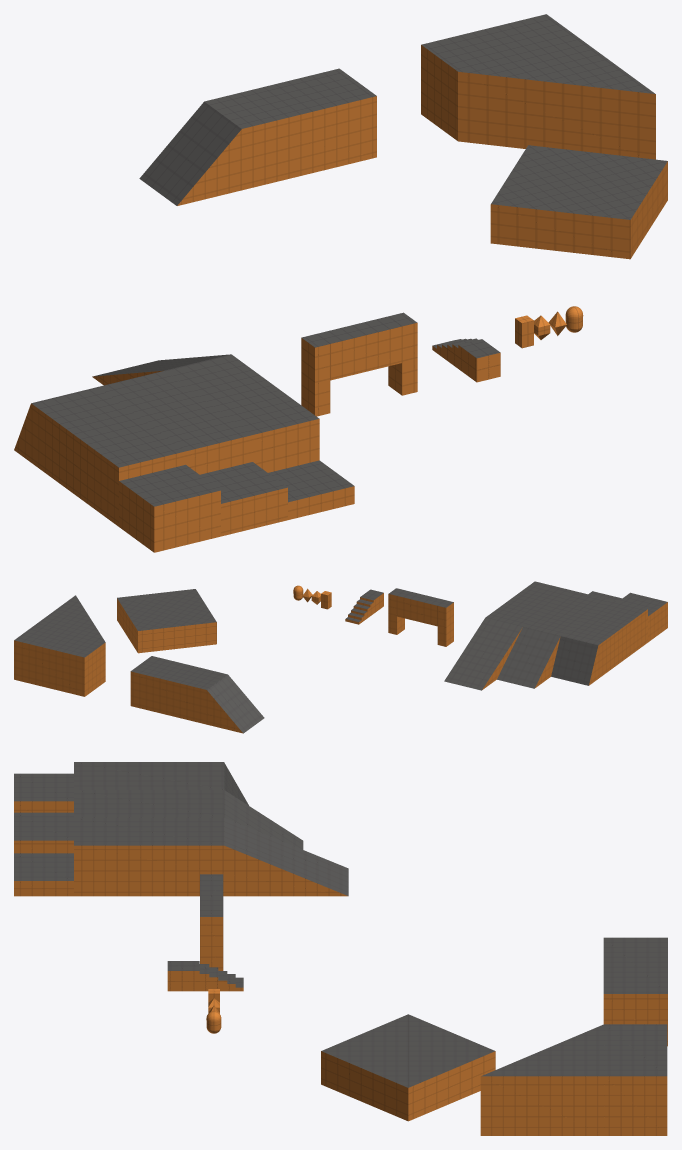
Rendered from testing_zone.glb.
3 views of the same model, one above another, from view 1: azimuth 30°, elevation 25°; view 2: azimuth 150°, elevation 25°; view 3: azimuth 270°, elevation 25° (orthographic). The views are drawn at different scales.
Parts seen in each view (by area): view 1: Cube.028_col, Cube.007_col, Cube.027_col, Cube.008_col, Cube.004_col, Cube.023_col, Cube.006_col, Cube.022_col, Cube.010_col, Cube.009_col, Cube.024_col; view 2: Cube.028_col, Cube.007_col, Cube.008_col, Cube.027_col, Cube.004_col, Cube.006_col, Cube.023_col, Cube.022_col, Cube.024_col; view 3: Cube.004_col, Cube.028_col, Cube.027_col, Cube.007_col, Cube.006_col, Cube.008_col, Cube.009_col, Cube.010_col, Cube.022_col, Cube.023_col, Cube.024_col.
Part boxes in pixels (x1,y1,x2,y2): Cube.028_col: [421, 14, 655, 159]; Cube.007_col: [139, 68, 376, 205]; Cube.027_col: [490, 145, 667, 259]; Cube.008_col: [14, 387, 185, 526]; Cube.004_col: [92, 354, 319, 472]; Cube.023_col: [301, 312, 417, 416]; Cube.006_col: [98, 370, 252, 474]; Cube.022_col: [119, 464, 220, 552]; Cube.010_col: [200, 462, 287, 536]; Cube.009_col: [268, 460, 354, 519]; Cube.024_col: [432, 338, 500, 382]; Cube.028_col: [14, 595, 105, 696]; Cube.007_col: [130, 656, 264, 733]; Cube.008_col: [551, 600, 647, 685]; Cube.027_col: [117, 589, 216, 653]; Cube.004_col: [444, 581, 572, 690]; Cube.006_col: [497, 590, 609, 688]; Cube.023_col: [388, 588, 453, 646]; Cube.022_col: [618, 592, 667, 642]; Cube.024_col: [345, 589, 383, 624]; Cube.004_col: [74, 817, 348, 896]; Cube.028_col: [480, 1024, 667, 1135]; Cube.027_col: [321, 1014, 495, 1121]; Cube.007_col: [603, 937, 667, 1046]; Cube.006_col: [74, 790, 303, 849]; Cube.008_col: [74, 762, 248, 805]; Cube.009_col: [14, 853, 73, 896]; Cube.010_col: [14, 812, 73, 853]; Cube.022_col: [14, 773, 73, 812]; Cube.023_col: [200, 874, 223, 970]; Cube.024_col: [167, 961, 243, 991].
Size of what is drawn, in the model's own units: 64.86 by 6.32 by 55.55.
Materials: 2 (2 with a texture image).
